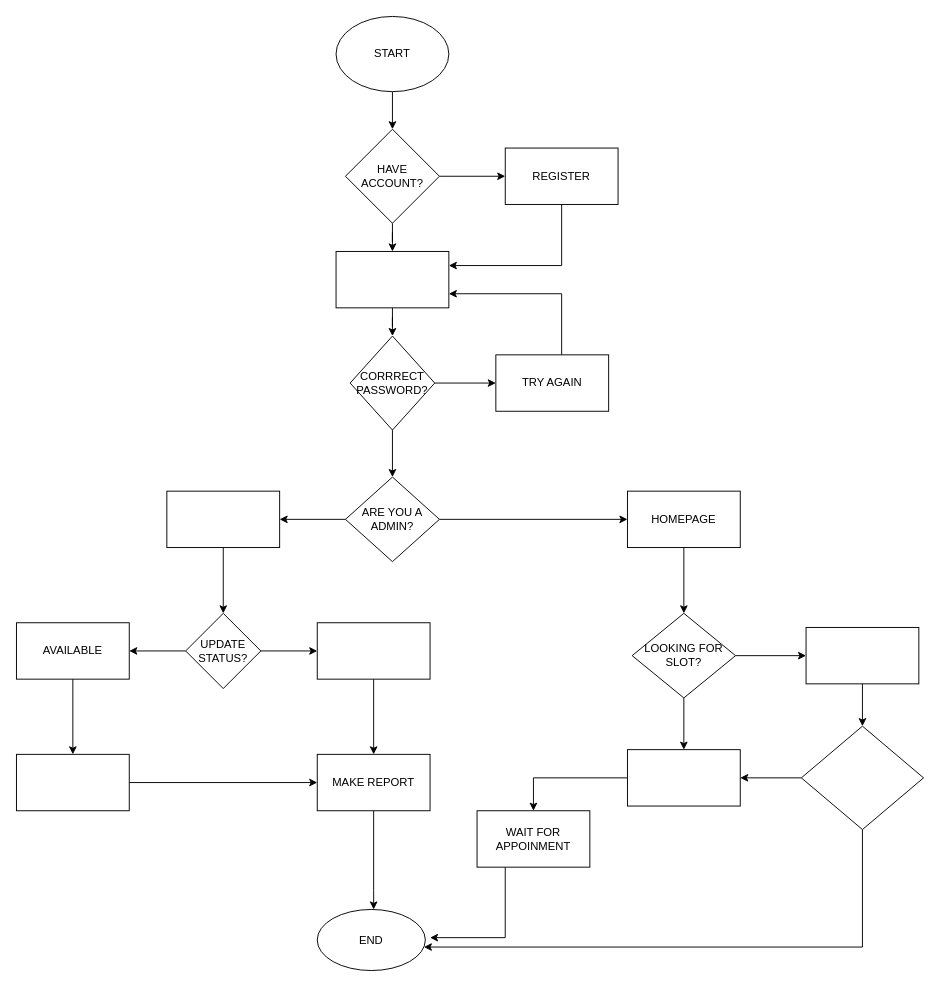
The diagram is 940 pixels wide and 987 high, and some of its shapes have lost their labels. Here are the shapes that lost their labels. From the top down, the centre of each, then its label:
At point 392,279: "LOG-IN".
At point 223,519: "ADMIN PANEL".
At point 373,650: "NOT AVAILABLE".
At point 862,655: "VIEW DOCTORS".
At point 72,782: "VIEW SCHEDULE".
At point 683,777: "MAKE SCHEDULE".
At point 862,777: "READY TO MAKE AN APPOINMENT?".
